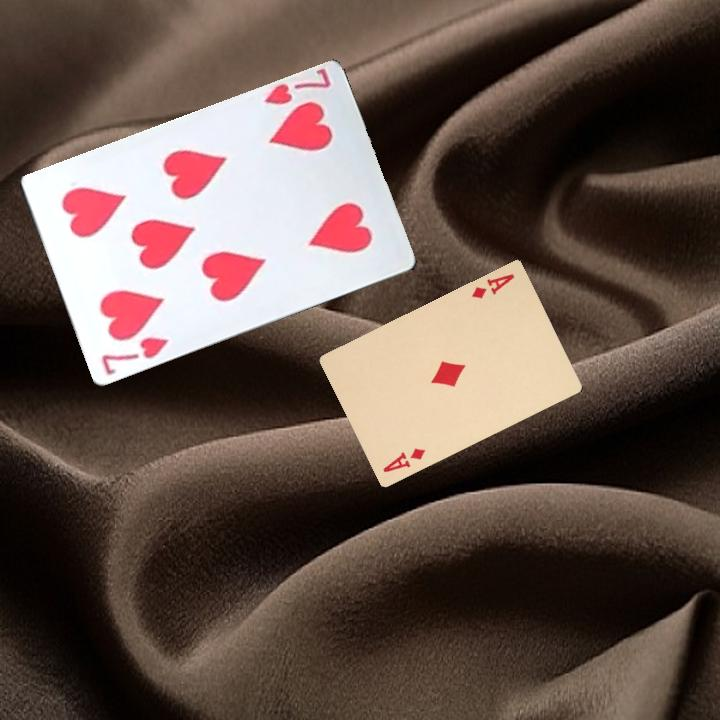7h: (97, 332, 171, 378), (260, 66, 334, 108)
Ad: (468, 269, 517, 301), (379, 444, 428, 475)
